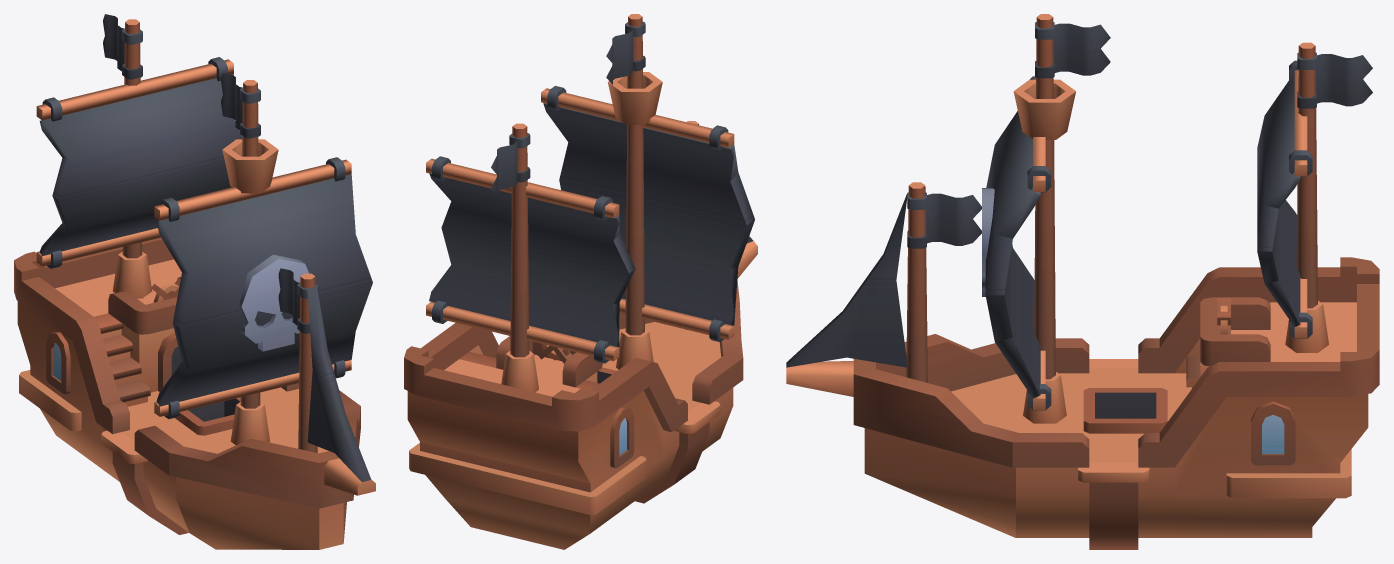
Rendered from ship-pirate-medium-transformed.glb.
The picture shows the model from 3 angles, left to right: view 1: azimuth 30°, elevation 25°; view 2: azimuth 150°, elevation 25°; view 3: azimuth 270°, elevation 25°; orthographic projection. The views are drawn at different scales.
Visible parts, largest first — view 1: ship-pirate-medium; view 2: ship-pirate-medium; view 3: ship-pirate-medium.
Part boxes in pixels (<box>): ship-pirate-medium: <box>14,14,375,549</box>; ship-pirate-medium: <box>404,14,757,549</box>; ship-pirate-medium: <box>786,14,1379,549</box>.
Bounding box in the file's own units: 4.8 × 9.96 × 10.6.
1 material, 1 textured.
